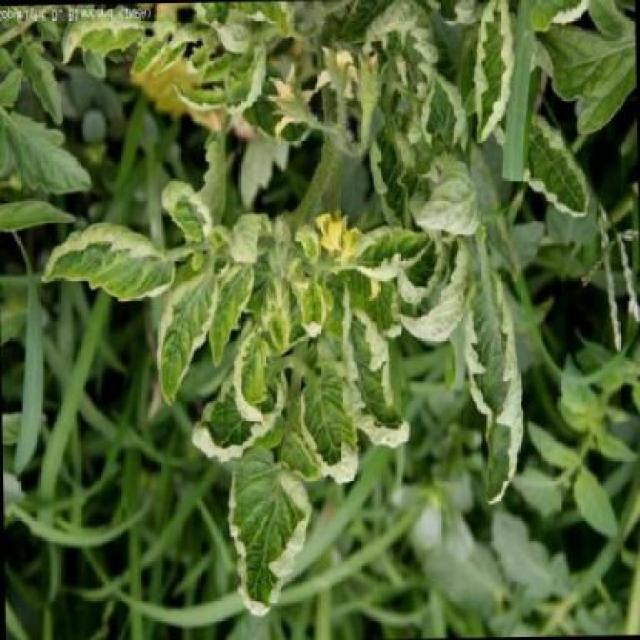Healthy Leaf: (218, 396, 325, 629), (31, 212, 188, 312), (329, 303, 423, 466), (134, 268, 240, 410), (186, 332, 291, 472), (292, 358, 370, 494), (459, 0, 516, 143), (344, 228, 434, 281), (293, 266, 327, 336)
